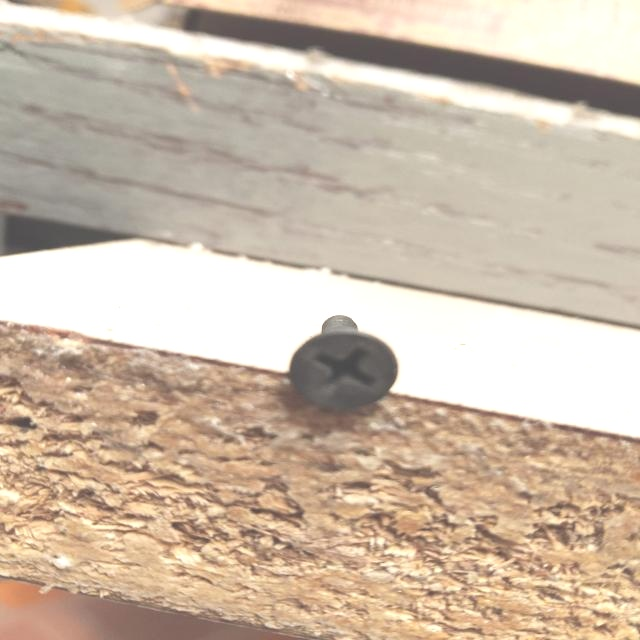phillips: (289, 330, 399, 411)
